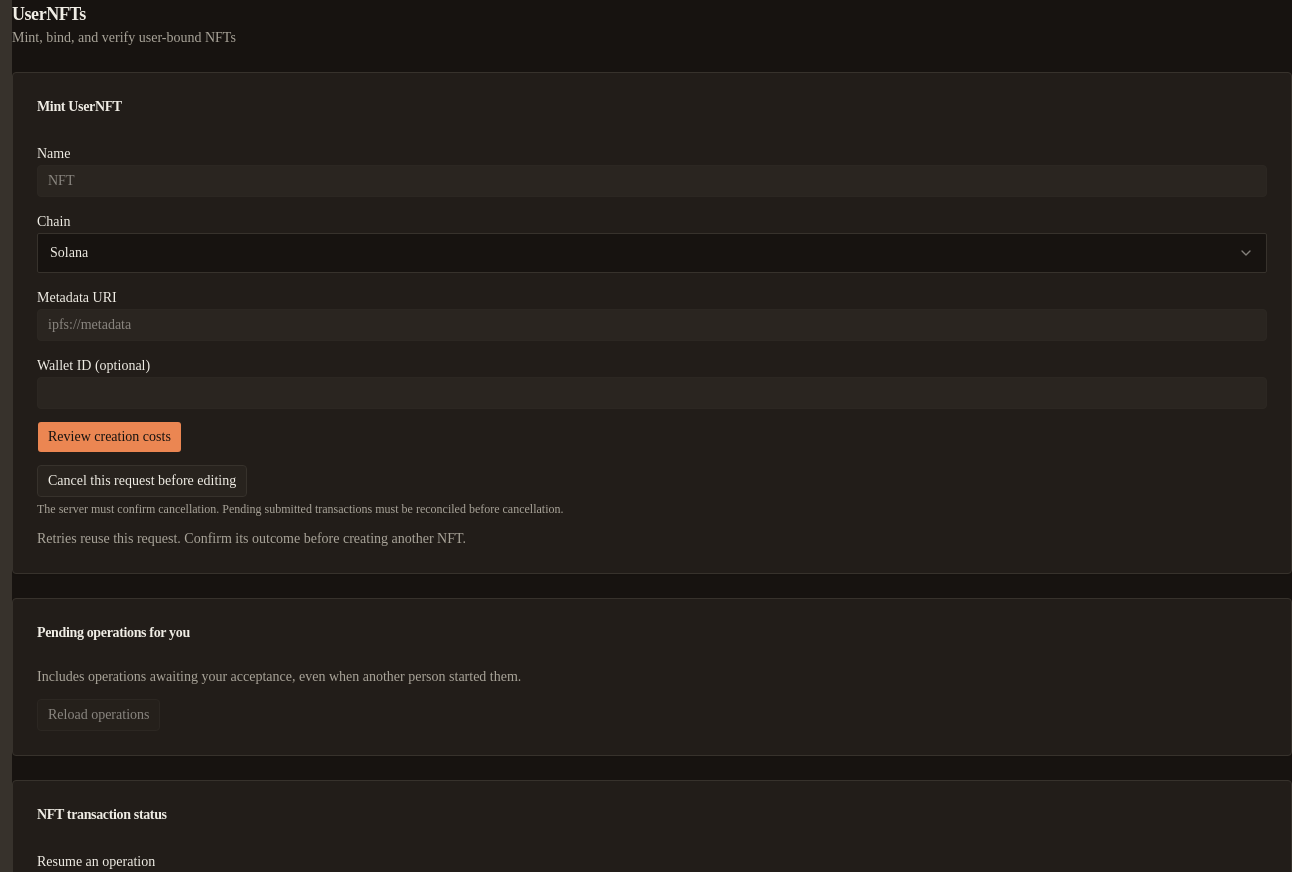
Test: shows a newly fetched offer before allowing a saved Solana draft to mint
Click the button "Review creation costs".
click(109, 437)  # box [37,421,182,453]
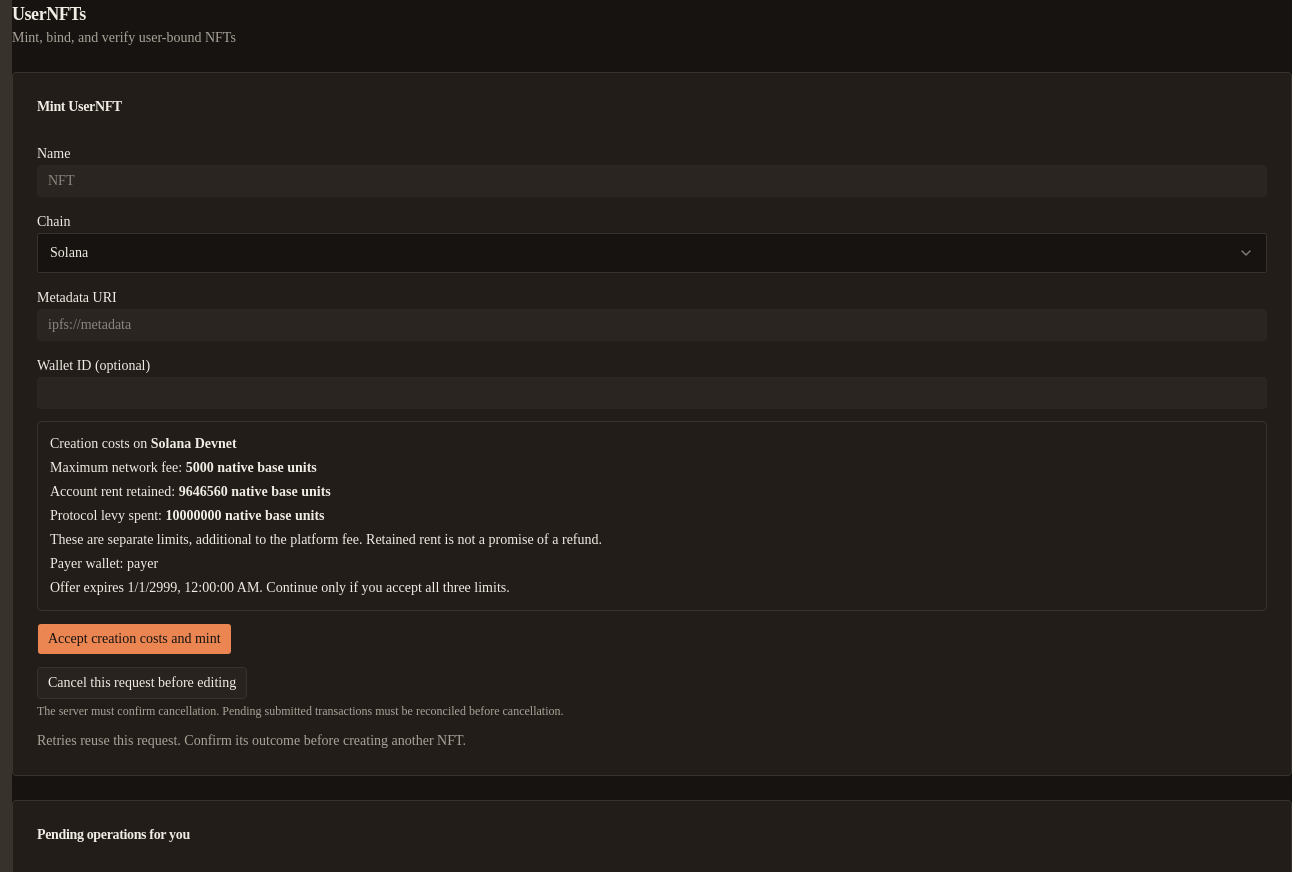
Now the button "Accept creation costs and mint" is shown, box [37,623,232,655]
